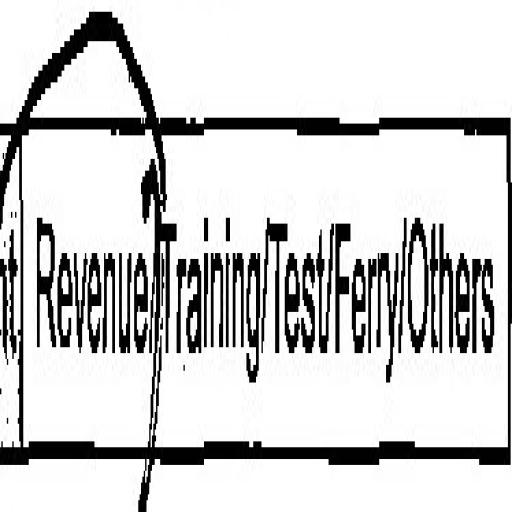check: (16, 0, 156, 512)
